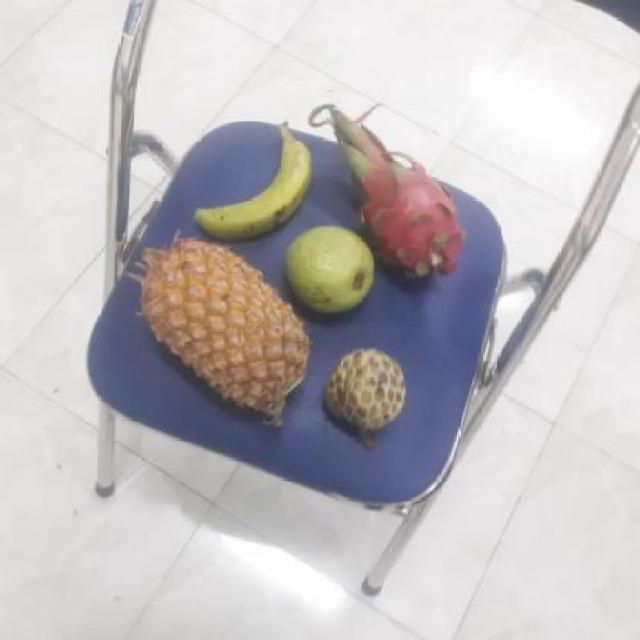banana: (189, 124, 309, 241)
dragon fruit: (338, 148, 460, 278)
guava: (280, 226, 375, 316)
pineapple: (130, 241, 308, 417)
sugar apple: (316, 348, 404, 434)
